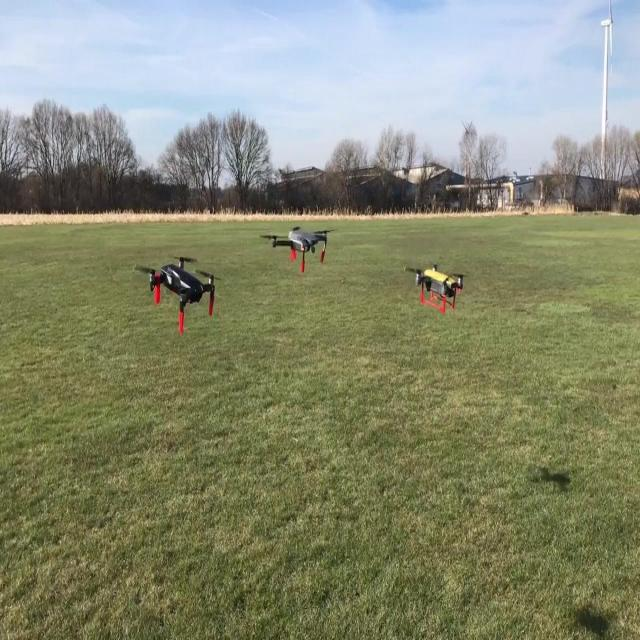UAV: (134, 256, 222, 335), (260, 226, 338, 274), (404, 262, 468, 315)
